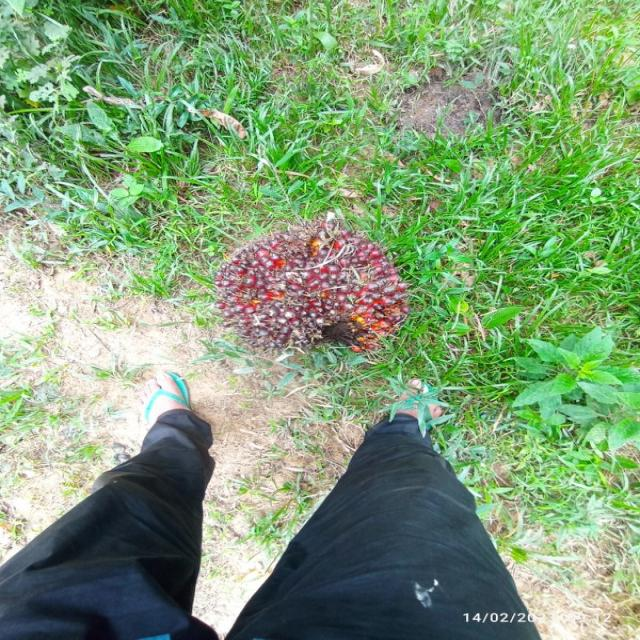fraksi 1: (208, 221, 412, 353)
